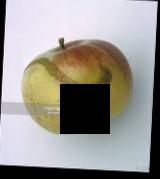rotten apple: (16, 33, 135, 136)
